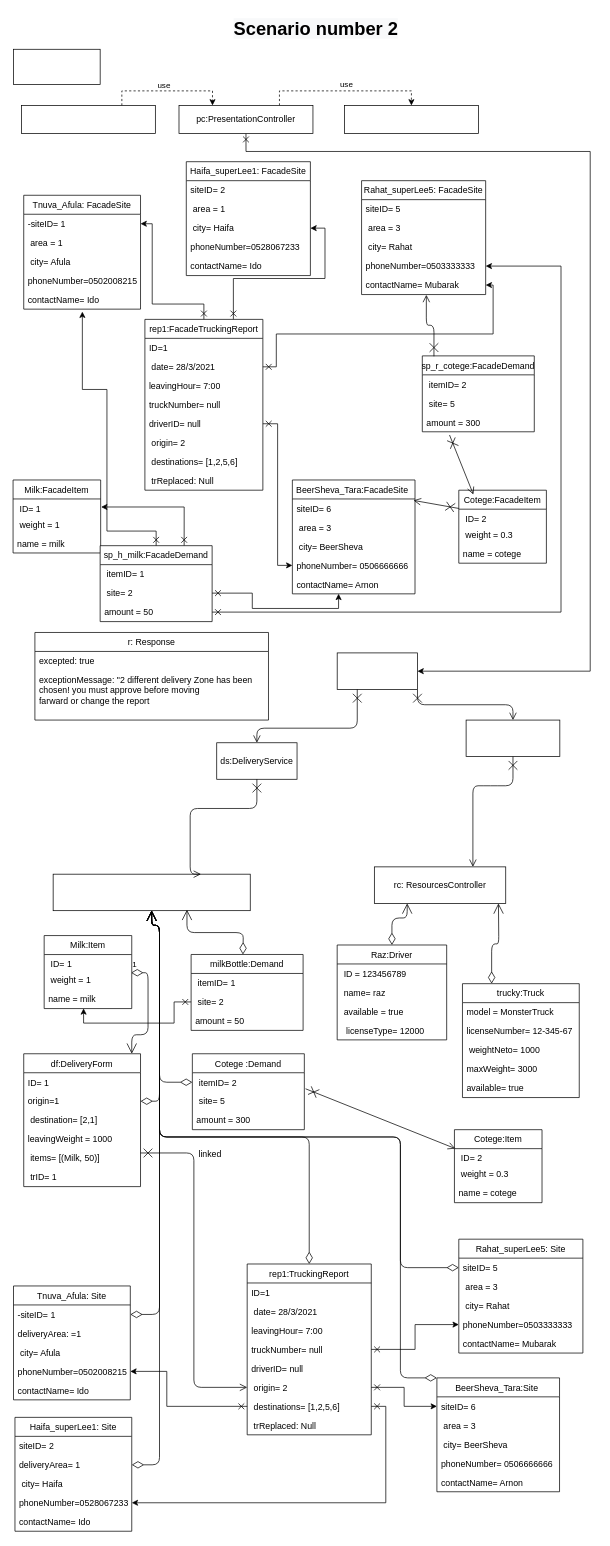
Some shapes in this 610 by 1546 pixel diagram are drawn without their labels. The centre of each missing label's shape, as x and y in pixels:
"dc : DeliveryController" goes at point 151,892.
"fs:FacadeService" goes at point 376,670.
"main:Main" goes at point 88,119.
"mp: MenuPrinter" goes at point 411,119.
"rs:ResourcesService" goes at point 512,738.
"StringConverter" goes at point 56,66.
